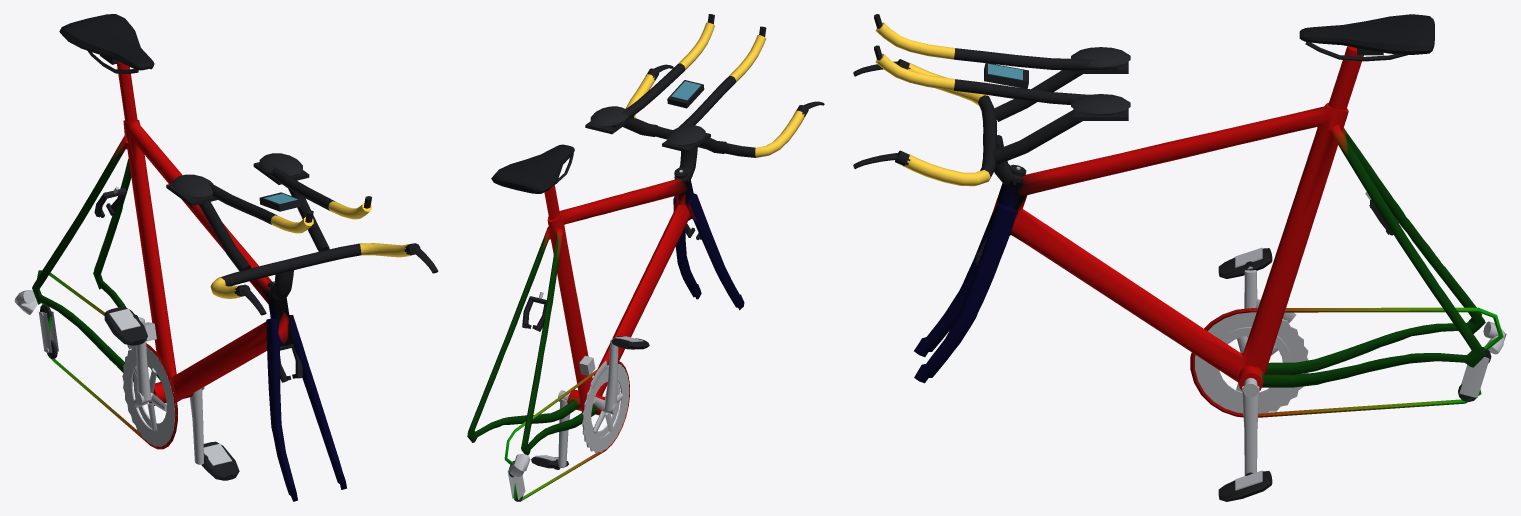
File: lowpro.glb
The picture shows the model from 3 angles, left to right: view 1: azimuth 30°, elevation 25°; view 2: azimuth 150°, elevation 25°; view 3: azimuth 270°, elevation 25°; orthographic projection. The views are drawn at different scales.
Parts seen in each view (by area): view 1: frame, cockpit, crankset, saddle, opt_derailleur, pedal_R, pedal_L, opt_brakes_rim; view 2: frame, cockpit, crankset, saddle, opt_derailleur, opt_brakes_rim, pedal_R; view 3: frame, cockpit, crankset, saddle, opt_derailleur, pedal_L, pedal_R.
Part boxes in pixels (x1,y1,x2,y2): frame: (32, 62, 346, 501); cockpit: (166, 153, 438, 315); crankset: (122, 317, 204, 464); saddle: (59, 14, 154, 73); opt_derailleur: (14, 290, 156, 358); pedal_R: (104, 306, 147, 345); pedal_L: (201, 441, 239, 480); opt_brakes_rim: (94, 186, 302, 382); frame: (467, 178, 744, 501); cockpit: (585, 14, 824, 182); crankset: (558, 338, 629, 467); saddle: (491, 144, 574, 193); opt_derailleur: (507, 356, 607, 501); opt_brakes_rim: (522, 218, 701, 331); pedal_R: (611, 336, 649, 349); frame: (914, 46, 1503, 417); cockpit: (853, 14, 1130, 186); crankset: (1195, 270, 1308, 475); saddle: (1299, 14, 1434, 61); opt_derailleur: (1255, 299, 1506, 401); pedal_L: (1218, 470, 1272, 501); pedal_R: (1218, 247, 1272, 278).
Size of the model in its own units: 0.415 by 0.8869 by 1.18.
